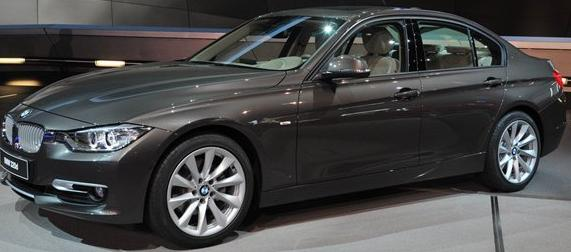front_view: (0, 96, 161, 228)
headlight: (59, 117, 160, 160)
side_glass: (309, 14, 510, 87)
